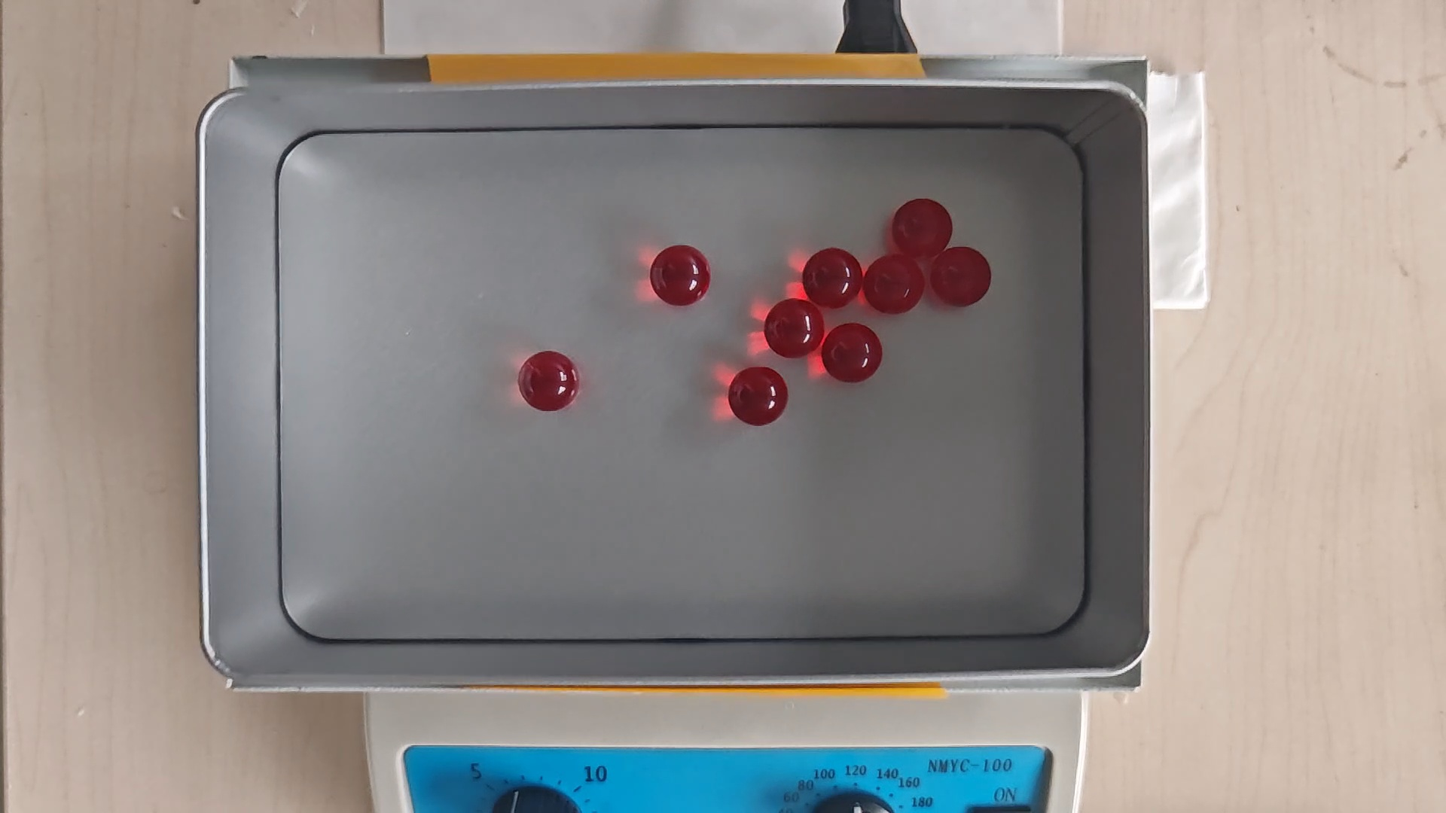ball: (650, 244, 712, 307), (518, 350, 580, 413), (930, 246, 992, 307), (823, 323, 883, 384), (729, 366, 789, 427), (765, 298, 825, 359), (865, 253, 924, 315), (802, 248, 863, 307), (892, 198, 953, 256)
container: (278, 126, 1086, 640)
